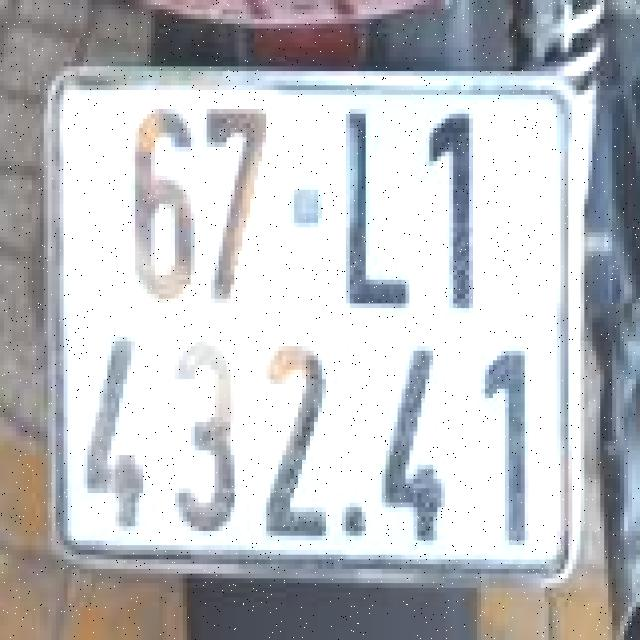1: (423, 104, 495, 318), (479, 346, 535, 545)
2: (258, 344, 334, 543)
3: (169, 330, 244, 538)
4: (376, 342, 455, 546), (80, 337, 155, 536)
6: (123, 107, 203, 306)
7: (205, 102, 268, 310)
L: (334, 100, 421, 322)
